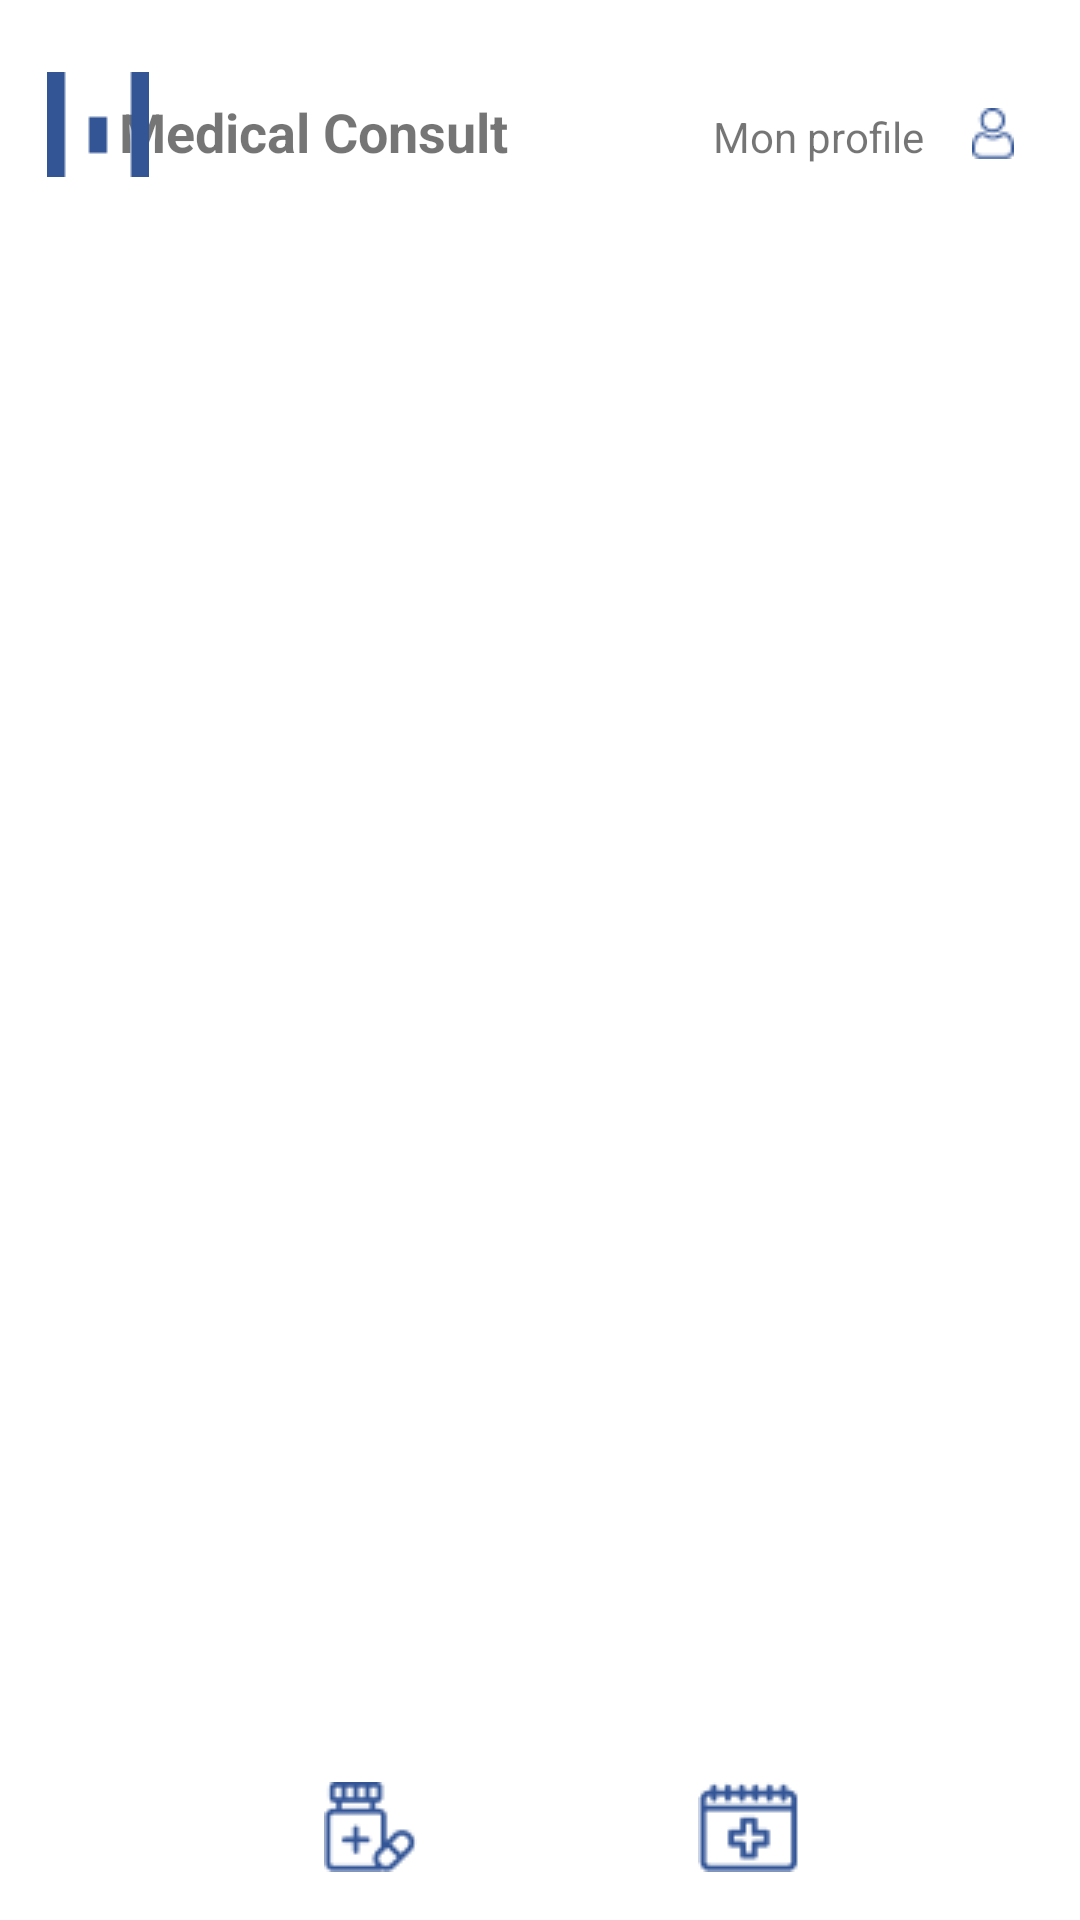

Where icons sit on this 1080 × 1920 app screen, as (x1, y1, x2, y2):
traitement: (324, 1782, 415, 1872)
